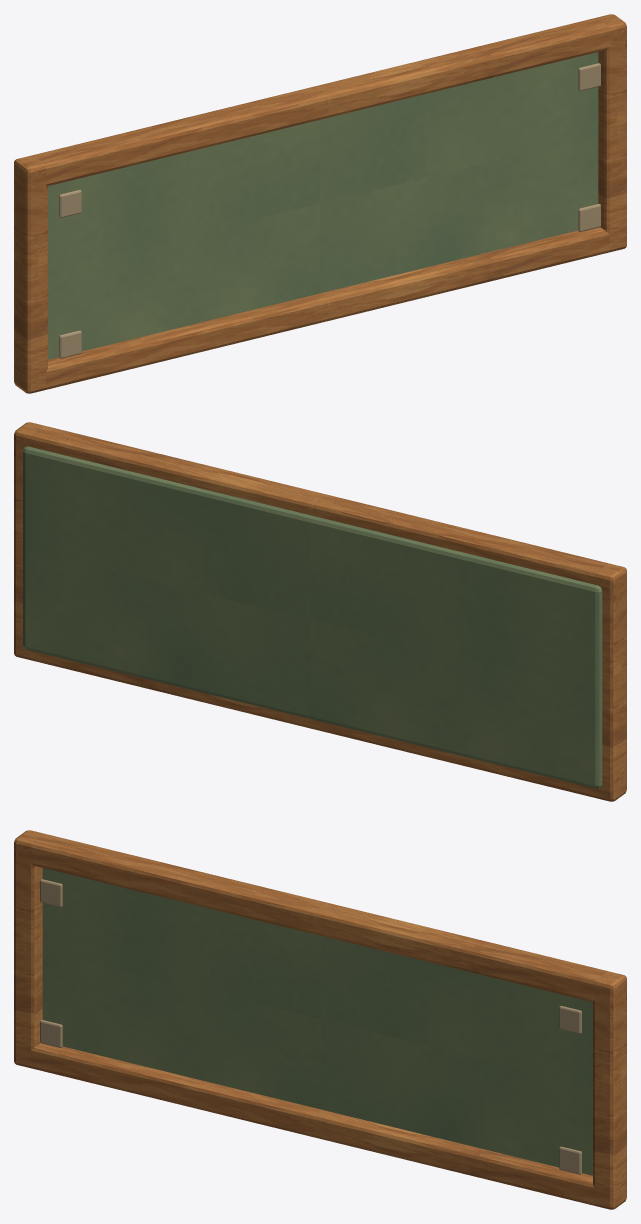
File: WC_CAFE_Sign_Blank_A.glb
The picture shows the model from 3 angles, top to bottom: view 1: azimuth 30°, elevation 25°; view 2: azimuth 150°, elevation 25°; view 3: azimuth 330°, elevation 25°; orthographic projection.
Visible parts, largest first — view 1: WC_CAFE_Sign_Blank_A_RenderMesh; view 2: WC_CAFE_Sign_Blank_A_RenderMesh; view 3: WC_CAFE_Sign_Blank_A_RenderMesh.
Boxes of the visible parts, x1,y1,x2,y2 form: WC_CAFE_Sign_Blank_A_RenderMesh: [14, 14, 626, 393]; WC_CAFE_Sign_Blank_A_RenderMesh: [14, 422, 626, 801]; WC_CAFE_Sign_Blank_A_RenderMesh: [14, 830, 626, 1209].
Size of the model in its own units: 1.61 by 0.58 by 0.096.
Materials: 4 (3 with a texture image).
